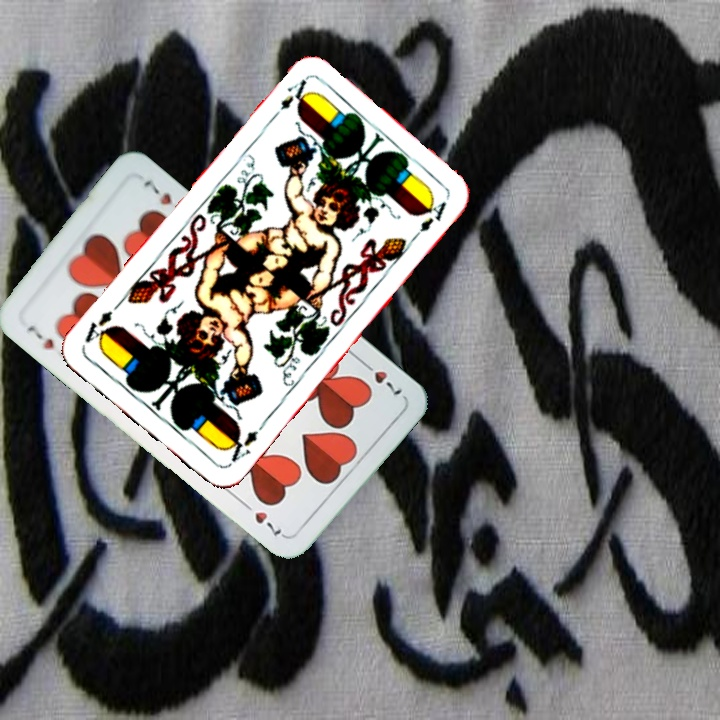EA: (266, 75, 312, 124), (220, 426, 261, 465)
H7: (357, 356, 405, 398), (23, 319, 57, 352)
